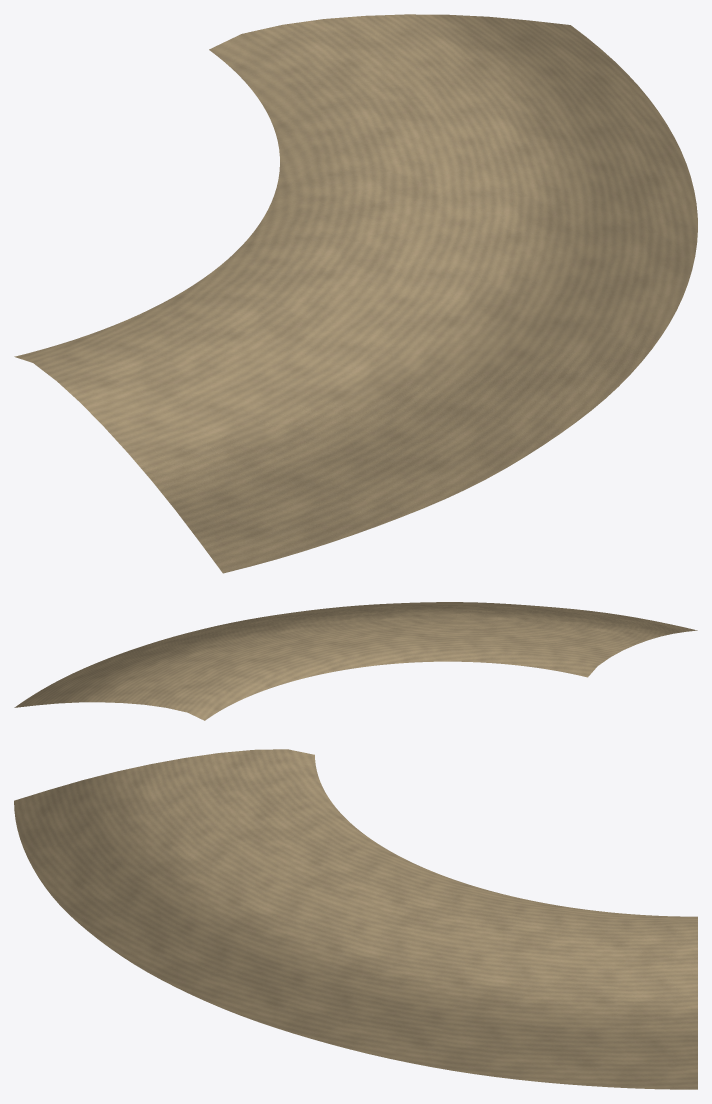
The model's file is beach_sand_outer_v5_autumn.glb.
The picture shows the model from 3 angles, top to bottom: view 1: azimuth 30°, elevation 25°; view 2: azimuth 150°, elevation 25°; view 3: azimuth 270°, elevation 25°; orthographic projection. The views are drawn at different scales.
Parts seen in each view (by area): view 1: beach_sand_outer; view 2: beach_sand_outer; view 3: beach_sand_outer.
Boxes of the visible parts, bbox=[...] form: beach_sand_outer: bbox=[14, 14, 697, 573]; beach_sand_outer: bbox=[14, 602, 697, 720]; beach_sand_outer: bbox=[14, 749, 697, 1089].
Size of the model in its own units: 10 by 0.8495 by 10.
1 material, 1 textured.
